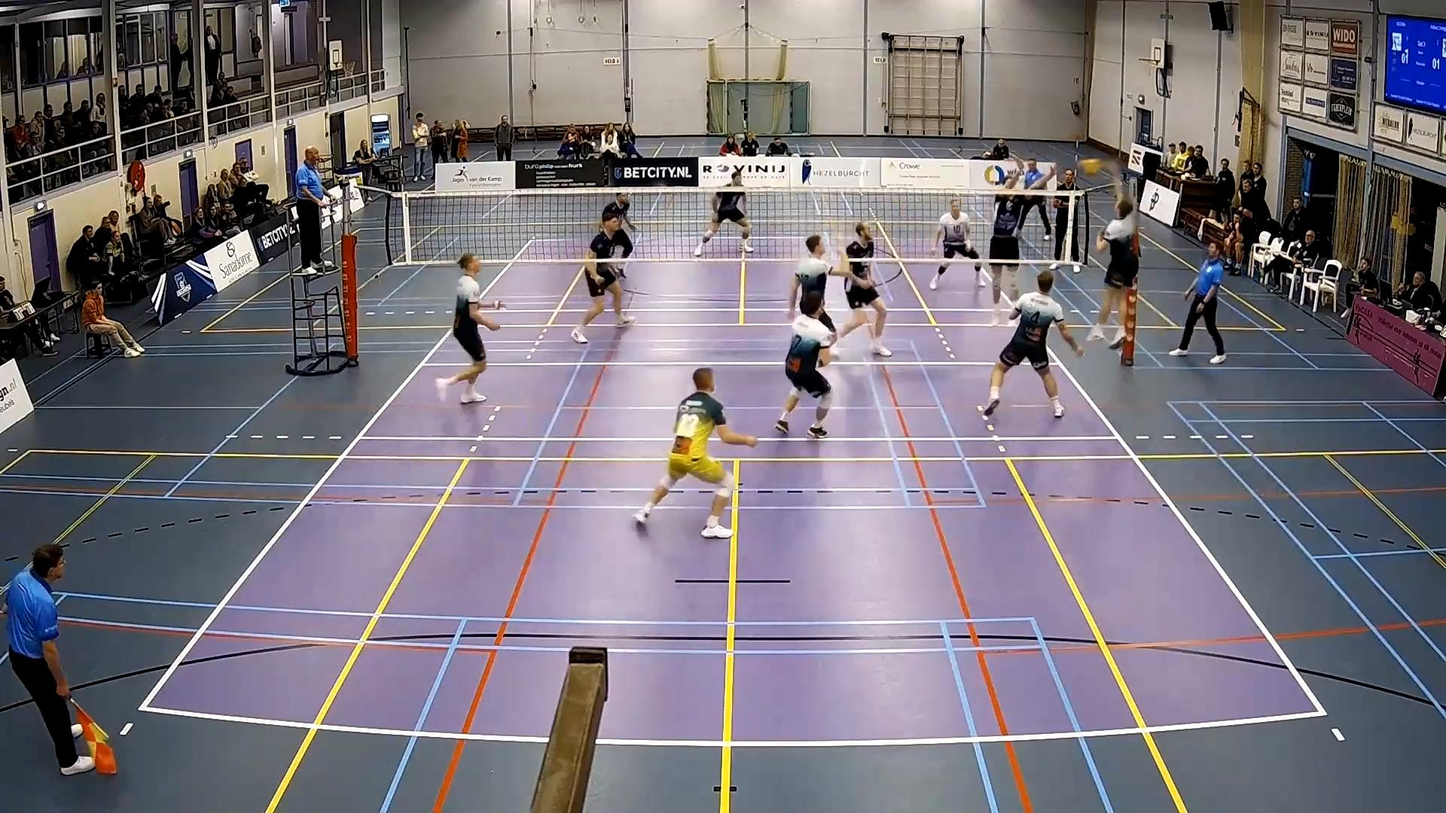Attack: (1092, 181, 1140, 350)
Block: (985, 147, 1056, 326)
Player: (634, 368, 757, 537), (984, 270, 1083, 417), (435, 254, 499, 403), (775, 292, 833, 438), (571, 216, 635, 343), (838, 222, 891, 357), (929, 198, 987, 289), (789, 234, 848, 320), (694, 169, 752, 256), (600, 193, 636, 278)
ball: (1080, 160, 1108, 177)
